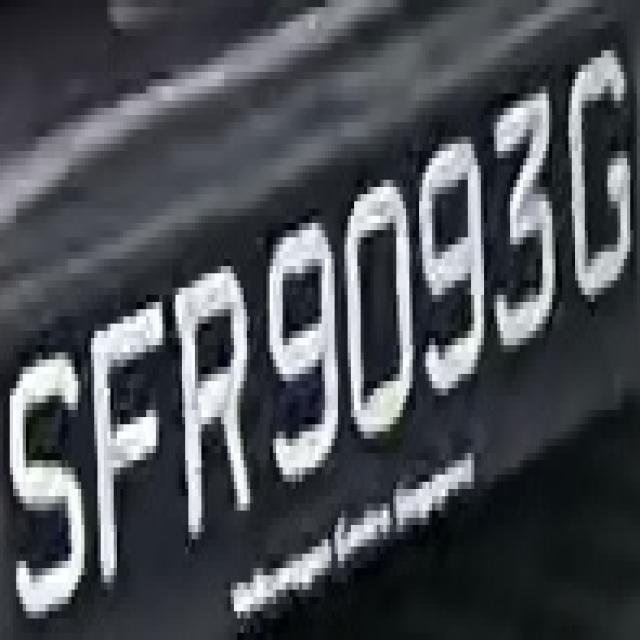0: (325, 130, 412, 503)
3: (478, 79, 565, 381)
9: (264, 208, 358, 525), (400, 123, 484, 424)
F: (75, 295, 185, 618)
G: (566, 36, 630, 316)
R: (156, 259, 266, 568)
S: (9, 316, 88, 626)
